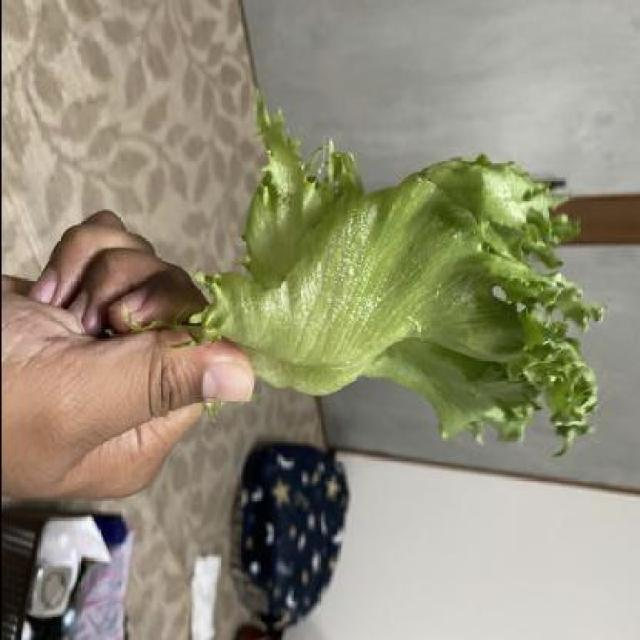Lettuce: (200, 92, 603, 460)
